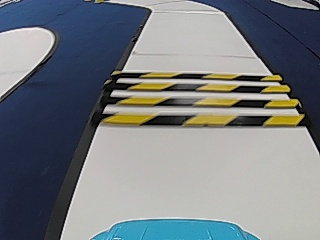bump: (102, 69, 298, 131)
